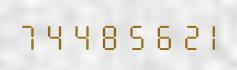eight: (92, 20, 116, 50)
five: (117, 20, 141, 50)
four: (42, 20, 66, 50), (67, 20, 91, 50)
one: (192, 20, 216, 50)
seven: (17, 20, 41, 50)
six: (142, 20, 166, 50)
two: (167, 20, 191, 50)
